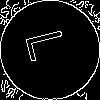L: (25, 25, 76, 63)
